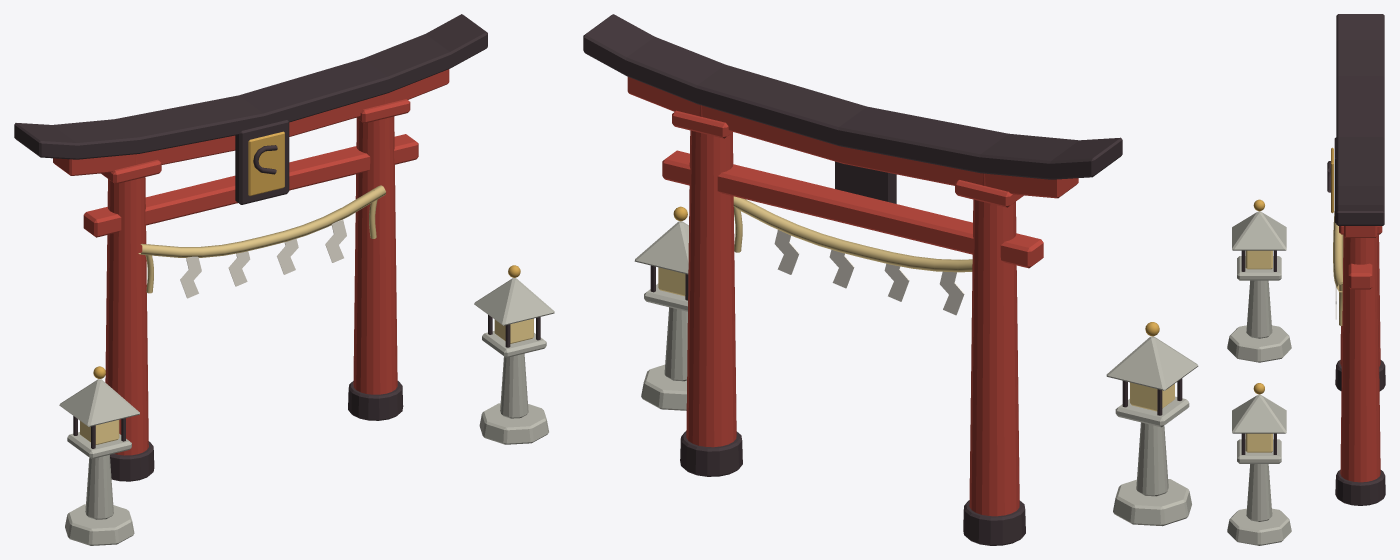
The model's file is cliff_shrine.glb.
3 views of the same model, side by side, from view 1: azimuth 30°, elevation 25°; view 2: azimuth 150°, elevation 25°; view 3: azimuth 270°, elevation 25° (orthographic). The views are drawn at different scales.
Parts seen in each view (by area): view 1: Pigment_bc4438, Pigment_403438, Pigment_b9b8ad, Pigment_d8bf83, Pigment_d6a74f, Pigment_f7f1e5, Pigment_f8dc96; view 2: Pigment_bc4438, Pigment_403438, Pigment_b9b8ad, Pigment_d8bf83, Pigment_f7f1e5, Pigment_f8dc96; view 3: Pigment_403438, Pigment_b9b8ad, Pigment_bc4438, Pigment_f8dc96, Pigment_d8bf83, Pigment_d6a74f.
Part boxes in pixels (x1,y1,x2,y2): Pigment_bc4438: [53, 69, 449, 455]; Pigment_403438: [14, 14, 540, 481]; Pigment_b9b8ad: [59, 278, 554, 545]; Pigment_d8bf83: [138, 185, 385, 293]; Pigment_d6a74f: [93, 131, 520, 378]; Pigment_f7f1e5: [180, 219, 346, 298]; Pigment_f8dc96: [80, 318, 533, 444]; Pigment_bc4438: [627, 77, 1078, 516]; Pigment_403438: [583, 14, 1182, 545]; Pigment_b9b8ad: [634, 221, 1198, 526]; Pigment_d8bf83: [733, 196, 972, 272]; Pigment_f7f1e5: [774, 230, 964, 315]; Pigment_f8dc96: [658, 267, 1174, 411]; Pigment_403438: [1241, 14, 1385, 505]; Pigment_b9b8ad: [1227, 211, 1291, 545]; Pigment_bc4438: [1339, 226, 1382, 482]; Pigment_f8dc96: [1245, 250, 1272, 452]; Pigment_d8bf83: [1333, 211, 1343, 325]; Pigment_d6a74f: [1253, 147, 1333, 394].
Bounding box in the file's own units: 6.89 × 5.02 × 2.2.
